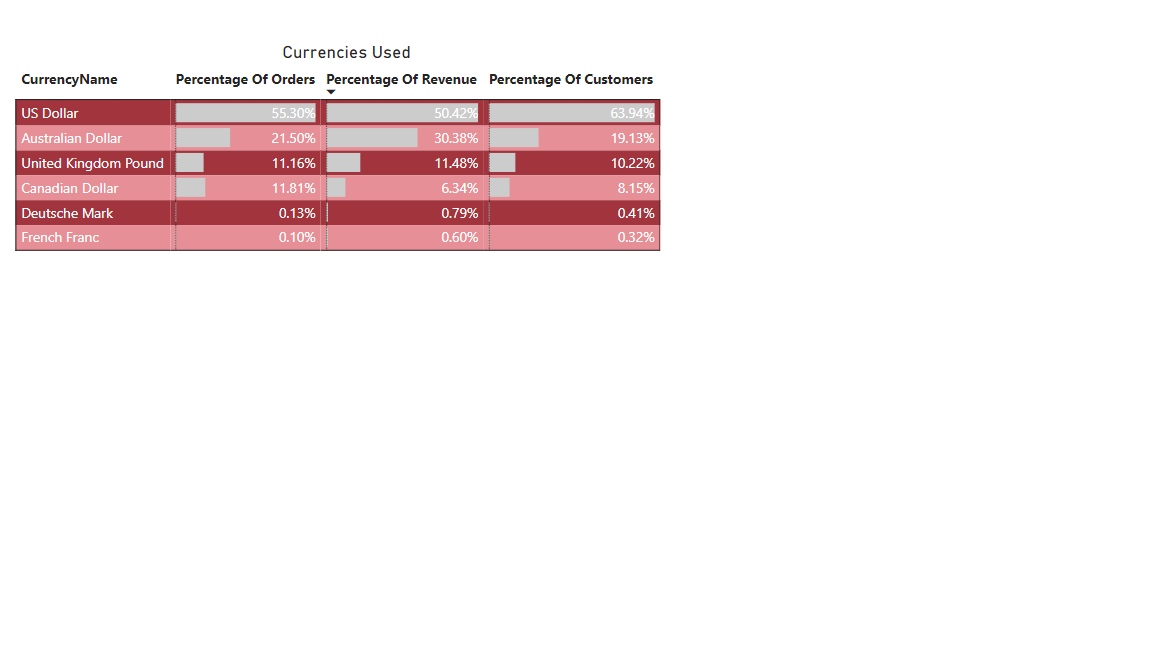

What the dashboard file says about the page in this screenshot:
{"tool":"powerbi","page":{"name":"Currency","canvas":[1280,720],"ordinal":2},"visuals":[{"type":"tableEx","title":"Currencies Used","fields":{"Values":["DimCurrency.CurrencyName","measures .NumOfOrders","measures .TotalRevenue","FactInternetSales.CustomerKey"]},"box":[283.8,149.7,652.1,280.2],"z":0}]}

Visuals, with their boxes in screenshot pixels (x1, y1, x2, y2), scaled from the page's 1280x720 canvas onto the 1152x648 screenshot:
"Currencies Used" tableEx: <region>255, 135, 842, 387</region>
